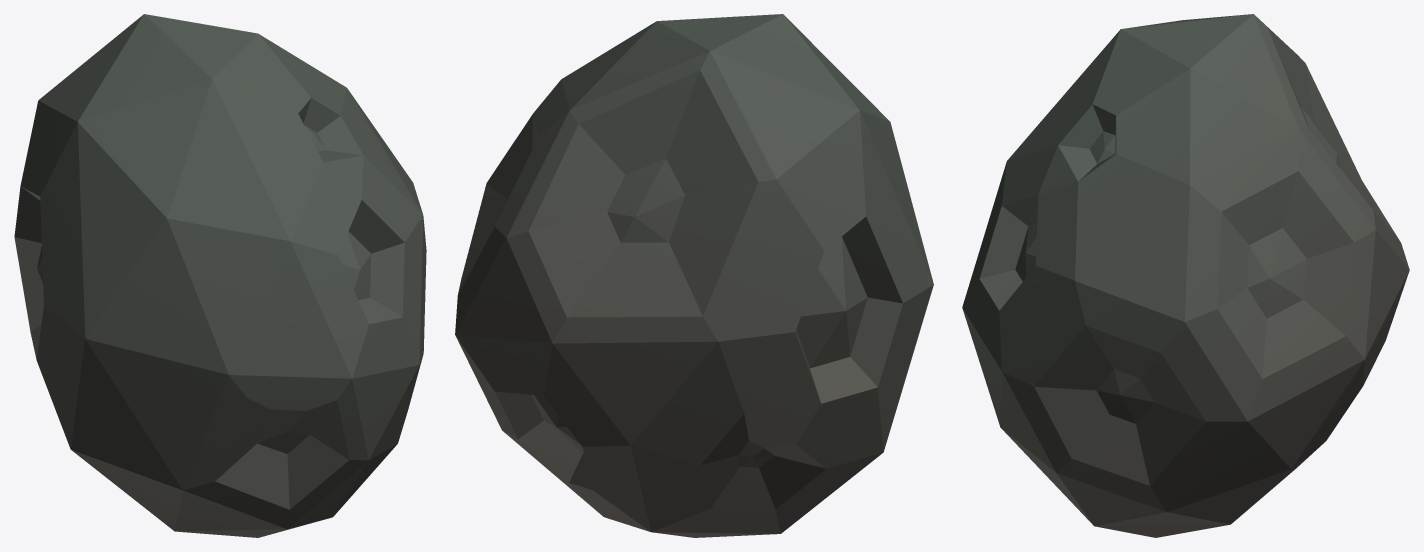
File: planet09.FBX
3 renders of one model, left to right at view 1: azimuth 30°, elevation 25°; view 2: azimuth 150°, elevation 25°; view 3: azimuth 270°, elevation 25°, orthographic. The views are drawn at different scales.
Visible parts, largest first — view 1: planet09; view 2: planet09; view 3: planet09.
Part boxes in pixels (<box>): planet09: <box>14,14,426,537</box>; planet09: <box>455,14,933,537</box>; planet09: <box>962,14,1409,537</box>.
Bounding box in the file's own units: 7.24 × 9.31 × 7.65.
